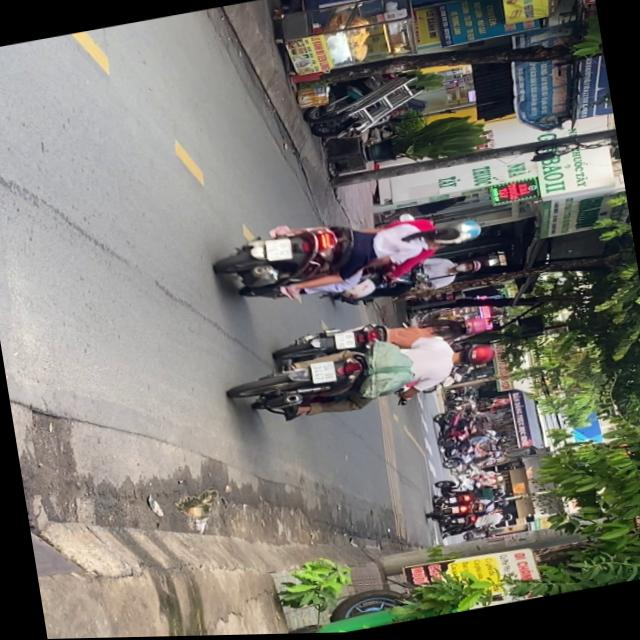helmet: (452, 342, 498, 371), (454, 317, 492, 341), (450, 218, 483, 245), (454, 260, 484, 277)
licenseplate: (210, 192, 489, 314), (228, 322, 504, 435), (272, 300, 496, 374)
motorcyclist: (421, 222, 461, 250)
nohelmet: (310, 361, 338, 386), (265, 238, 294, 262), (334, 332, 356, 351)
